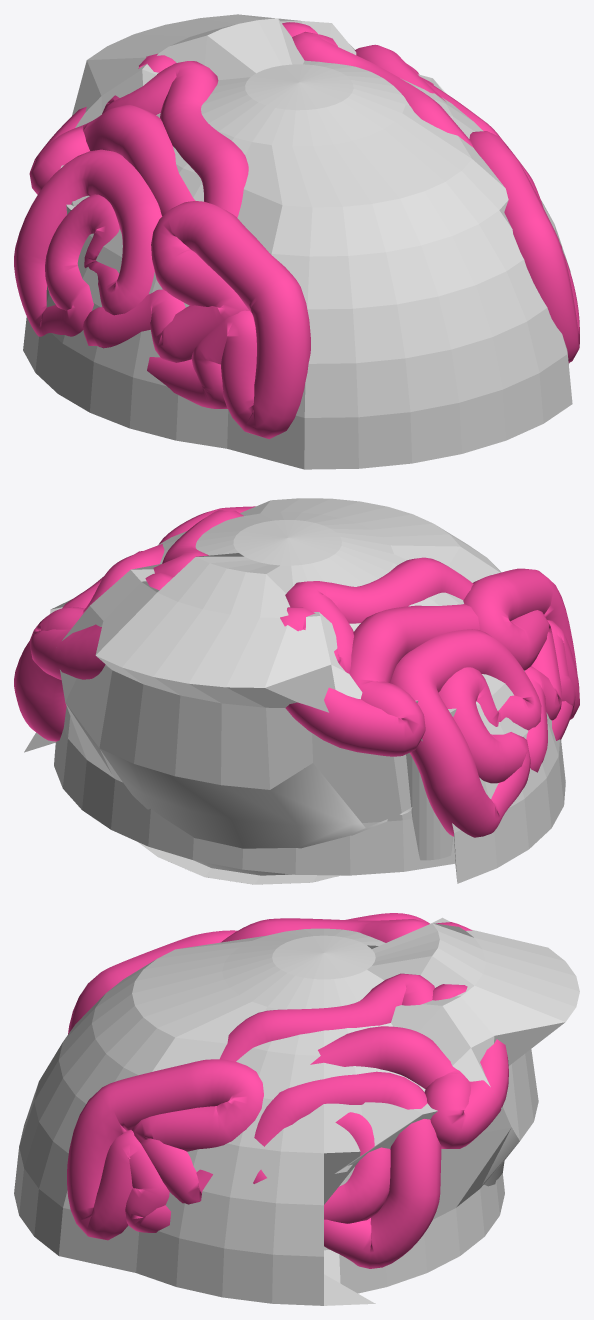
File: Temporal.fbx
3 views of the same model, one above another, from view 1: azimuth 30°, elevation 25°; view 2: azimuth 150°, elevation 25°; view 3: azimuth 270°, elevation 25° (orthographic). The views are drawn at different scales.
Parts seen in each view (by area): view 1: Sphere, L Temporal, R Temporal; view 2: Sphere, L Temporal, Sphere.001, R Temporal, Cylinder.001; view 3: Sphere, R Temporal, L Temporal, Sphere.001.
Boxes of the visible parts, box(x1,y1,x2,y2) form: Sphere: box(23, 14, 572, 469); L Temporal: box(14, 53, 310, 439); R Temporal: box(282, 22, 579, 362); Sphere: box(24, 498, 565, 883); L Temporal: box(280, 557, 579, 837); Sphere.001: box(66, 704, 457, 884); R Temporal: box(14, 506, 255, 741); Cylinder.001: box(406, 708, 456, 860); Sphere: box(14, 917, 579, 1305); R Temporal: box(67, 973, 508, 1268); L Temporal: box(68, 913, 472, 1034); Sphere.001: box(482, 1128, 519, 1186).
Bounding box in the file's own units: 56115 × 32511 × 59778.
